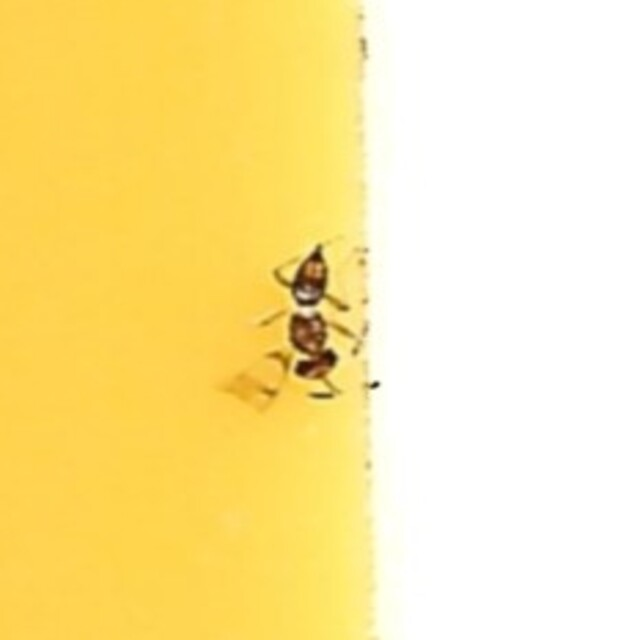Hymenoptera: (275, 236, 365, 404)
